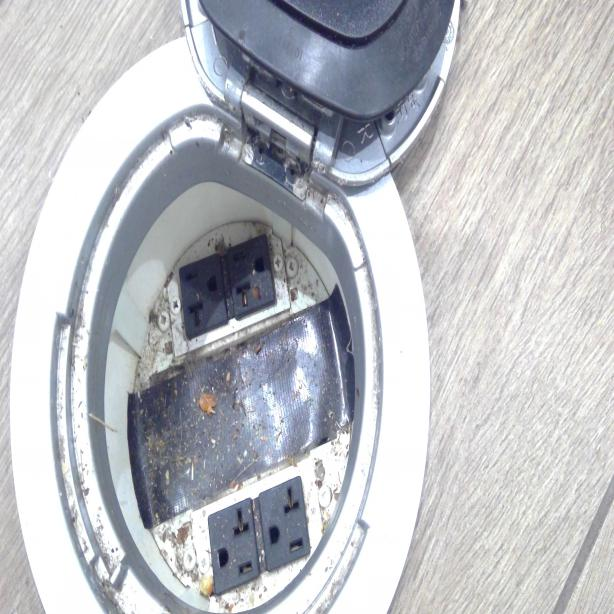typeb: (208, 501, 258, 589), (259, 480, 309, 564), (177, 258, 226, 332), (227, 238, 276, 311)
